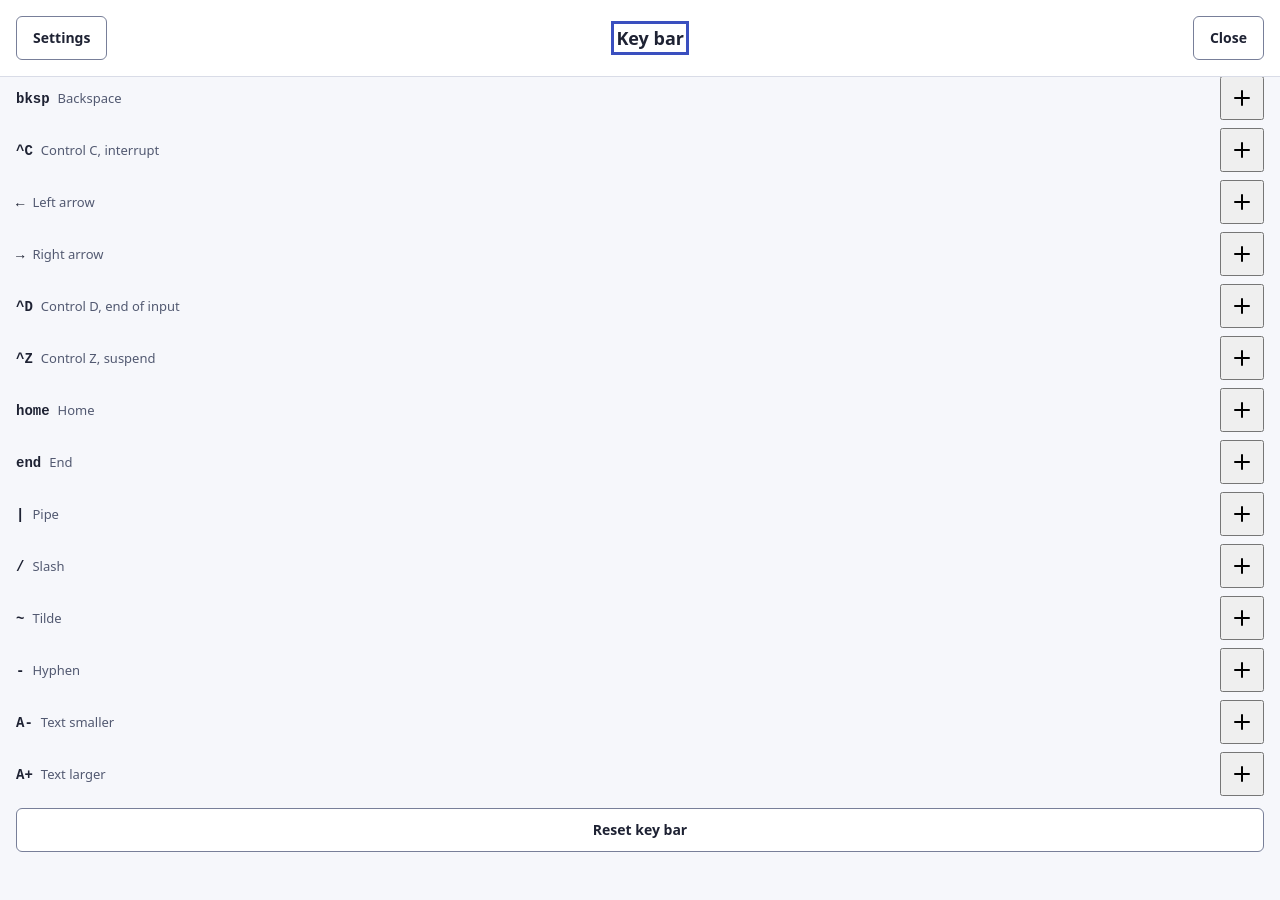
Scenario: KeyBarEditor › resets to the default order and announces it
(page scrolled)
Click the button "Reset key bar": (640, 830) left=16, top=808, right=1264, bottom=852
(page scrolled)
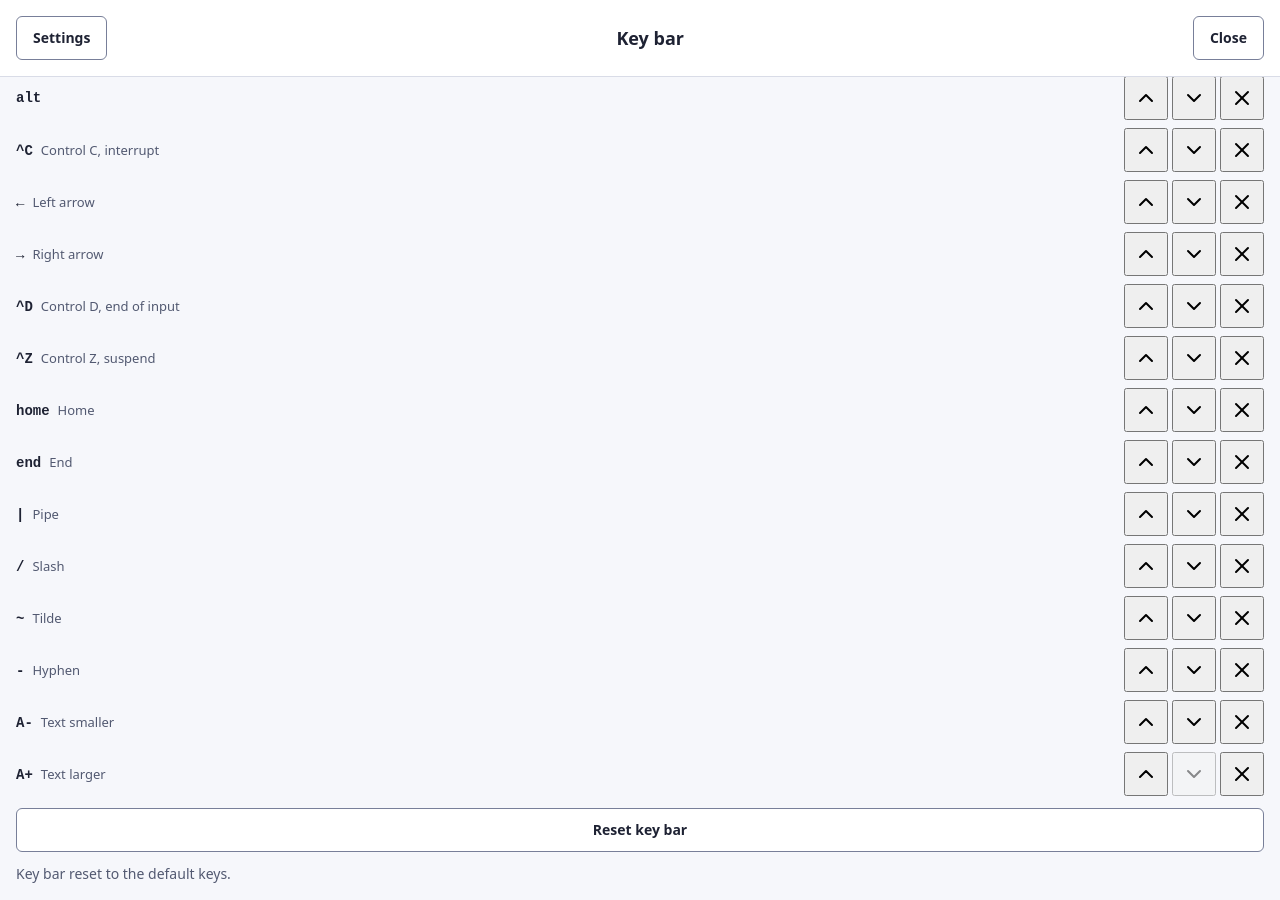
Expected: the message reads "Key bar reset to the default keys.", left=16, top=864, right=231, bottom=883
